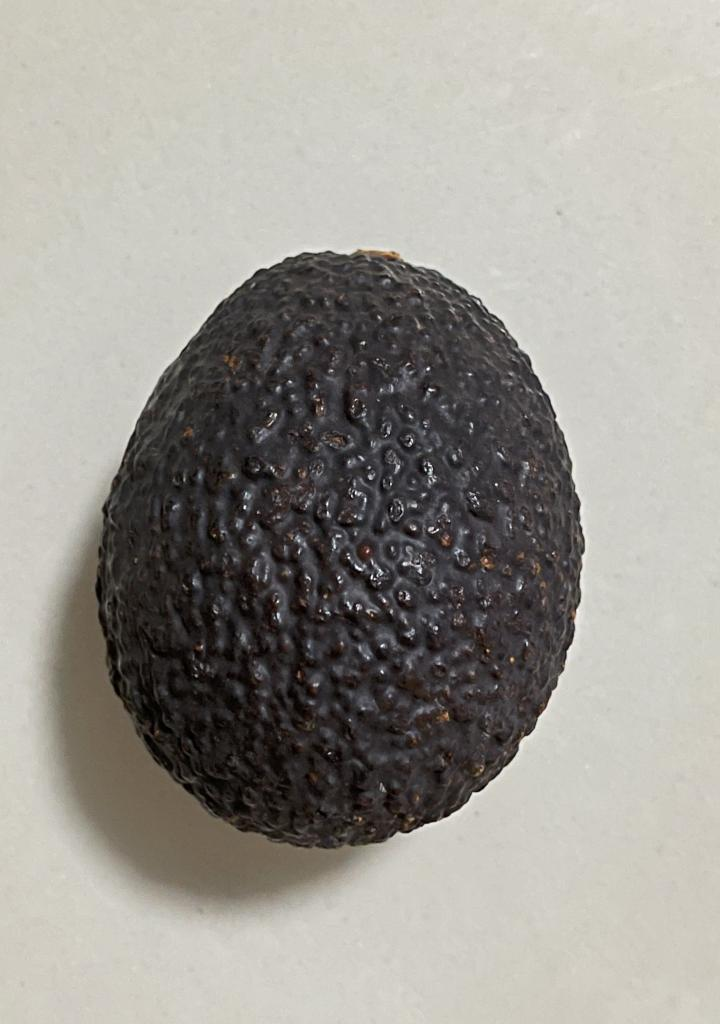Level3: (86, 236, 597, 859)
